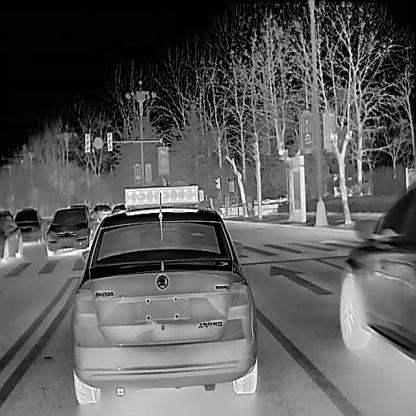car: (70, 183, 257, 403), (338, 180, 415, 361), (45, 206, 93, 255), (14, 206, 43, 244), (0, 209, 21, 261), (89, 202, 111, 221)
